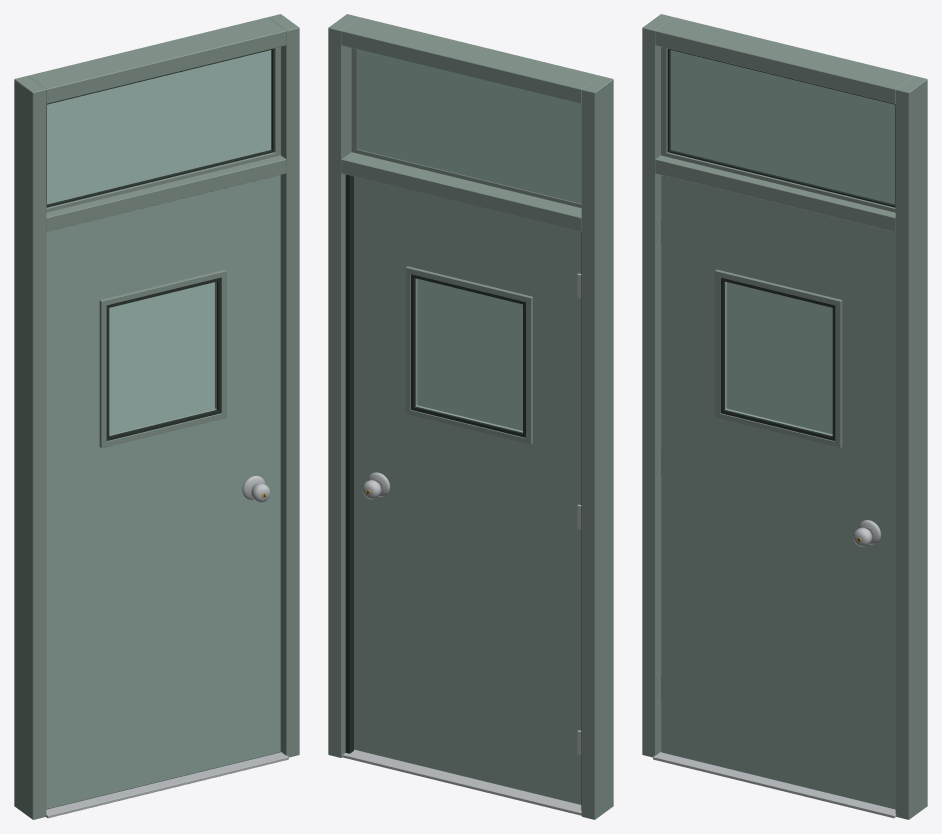
Rendered from sage_glass_door.fbx.
3 views of the same model, side by side, from view 1: azimuth 30°, elevation 25°; view 2: azimuth 150°, elevation 25°; view 3: azimuth 330°, elevation 25° (orthographic).
Parts seen in each view (by area): view 1: Door_Leaf • real window opening_UV, Jamb_L_UV, GLASS • upper transom_UV, Jamb_R_UV, GLASS • door vision panel_UV, Header_UV, Transom_crossbar_UV, Window_bead_front_UV, Threshold_UV, Transom_glazing_bead_UV, Window_gasket_front_UV, Transom_gasket_UV; view 2: Door_Leaf • real window opening_UV, Jamb_L_UV, GLASS • upper transom_UV, Jamb_R_UV, GLASS • door vision panel_UV, Header_UV, Transom_crossbar_UV, Stop_R_UV, Window_bead_back_UV, Threshold_UV, Window_gasket_back_UV, Transom_glazing_bead_UV (+1 smaller); view 3: Door_Leaf • real window opening_UV, Jamb_R_UV, GLASS • upper transom_UV, Jamb_L_UV, GLASS • door vision panel_UV, Header_UV, Transom_crossbar_UV, Window_bead_front_UV, Threshold_UV, Transom_glazing_bead_UV, Window_gasket_front_UV, Transom_gasket_UV.
Boxes of the visible parts, left/top/right/bottom form: Door_Leaf • real window opening_UV: left=46, top=175, right=280, bottom=809; Jamb_L_UV: left=14, top=76, right=46, bottom=819; GLASS • upper transom_UV: left=47, top=50, right=271, bottom=204; Jamb_R_UV: left=268, top=14, right=299, bottom=757; GLASS • door vision panel_UV: left=109, top=282, right=214, bottom=434; Header_UV: left=28, top=17, right=286, bottom=103; Transom_crossbar_UV: left=46, top=155, right=286, bottom=231; Window_bead_front_UV: left=99, top=269, right=226, bottom=447; Threshold_UV: left=45, top=752, right=288, bottom=818; Transom_glazing_bead_UV: left=46, top=47, right=280, bottom=212; Window_gasket_front_UV: left=106, top=277, right=221, bottom=440; Transom_gasket_UV: left=46, top=48, right=274, bottom=207; Door_Leaf • real window opening_UV: left=354, top=176, right=581, bottom=804; Jamb_L_UV: left=581, top=76, right=613, bottom=819; GLASS • upper transom_UV: left=357, top=49, right=581, bottom=203; Jamb_R_UV: left=328, top=14, right=359, bottom=757; GLASS • door vision panel_UV: left=417, top=279, right=522, bottom=430; Header_UV: left=341, top=17, right=599, bottom=103; Transom_crossbar_UV: left=341, top=152, right=581, bottom=231; Stop_R_UV: left=345, top=174, right=353, bottom=753; Window_bead_back_UV: left=405, top=266, right=532, bottom=444; Threshold_UV: left=342, top=749, right=581, bottom=815; Window_gasket_back_UV: left=411, top=274, right=525, bottom=437; Transom_glazing_bead_UV: left=351, top=48, right=581, bottom=207; Door_Leaf • real window opening_UV: left=661, top=175, right=895, bottom=809; Jamb_R_UV: left=895, top=76, right=927, bottom=819; GLASS • upper transom_UV: left=670, top=50, right=894, bottom=204; Jamb_L_UV: left=642, top=14, right=673, bottom=757; GLASS • door vision panel_UV: left=727, top=282, right=832, bottom=434; Header_UV: left=655, top=17, right=913, bottom=103; Transom_crossbar_UV: left=655, top=155, right=895, bottom=231; Window_bead_front_UV: left=715, top=269, right=842, bottom=447; Threshold_UV: left=653, top=752, right=896, bottom=818; Transom_glazing_bead_UV: left=661, top=47, right=895, bottom=212; Window_gasket_front_UV: left=720, top=277, right=835, bottom=440; Transom_gasket_UV: left=667, top=48, right=895, bottom=207.
Bounding box in the file's own units: 1.02 × 2.64 × 0.1944.
